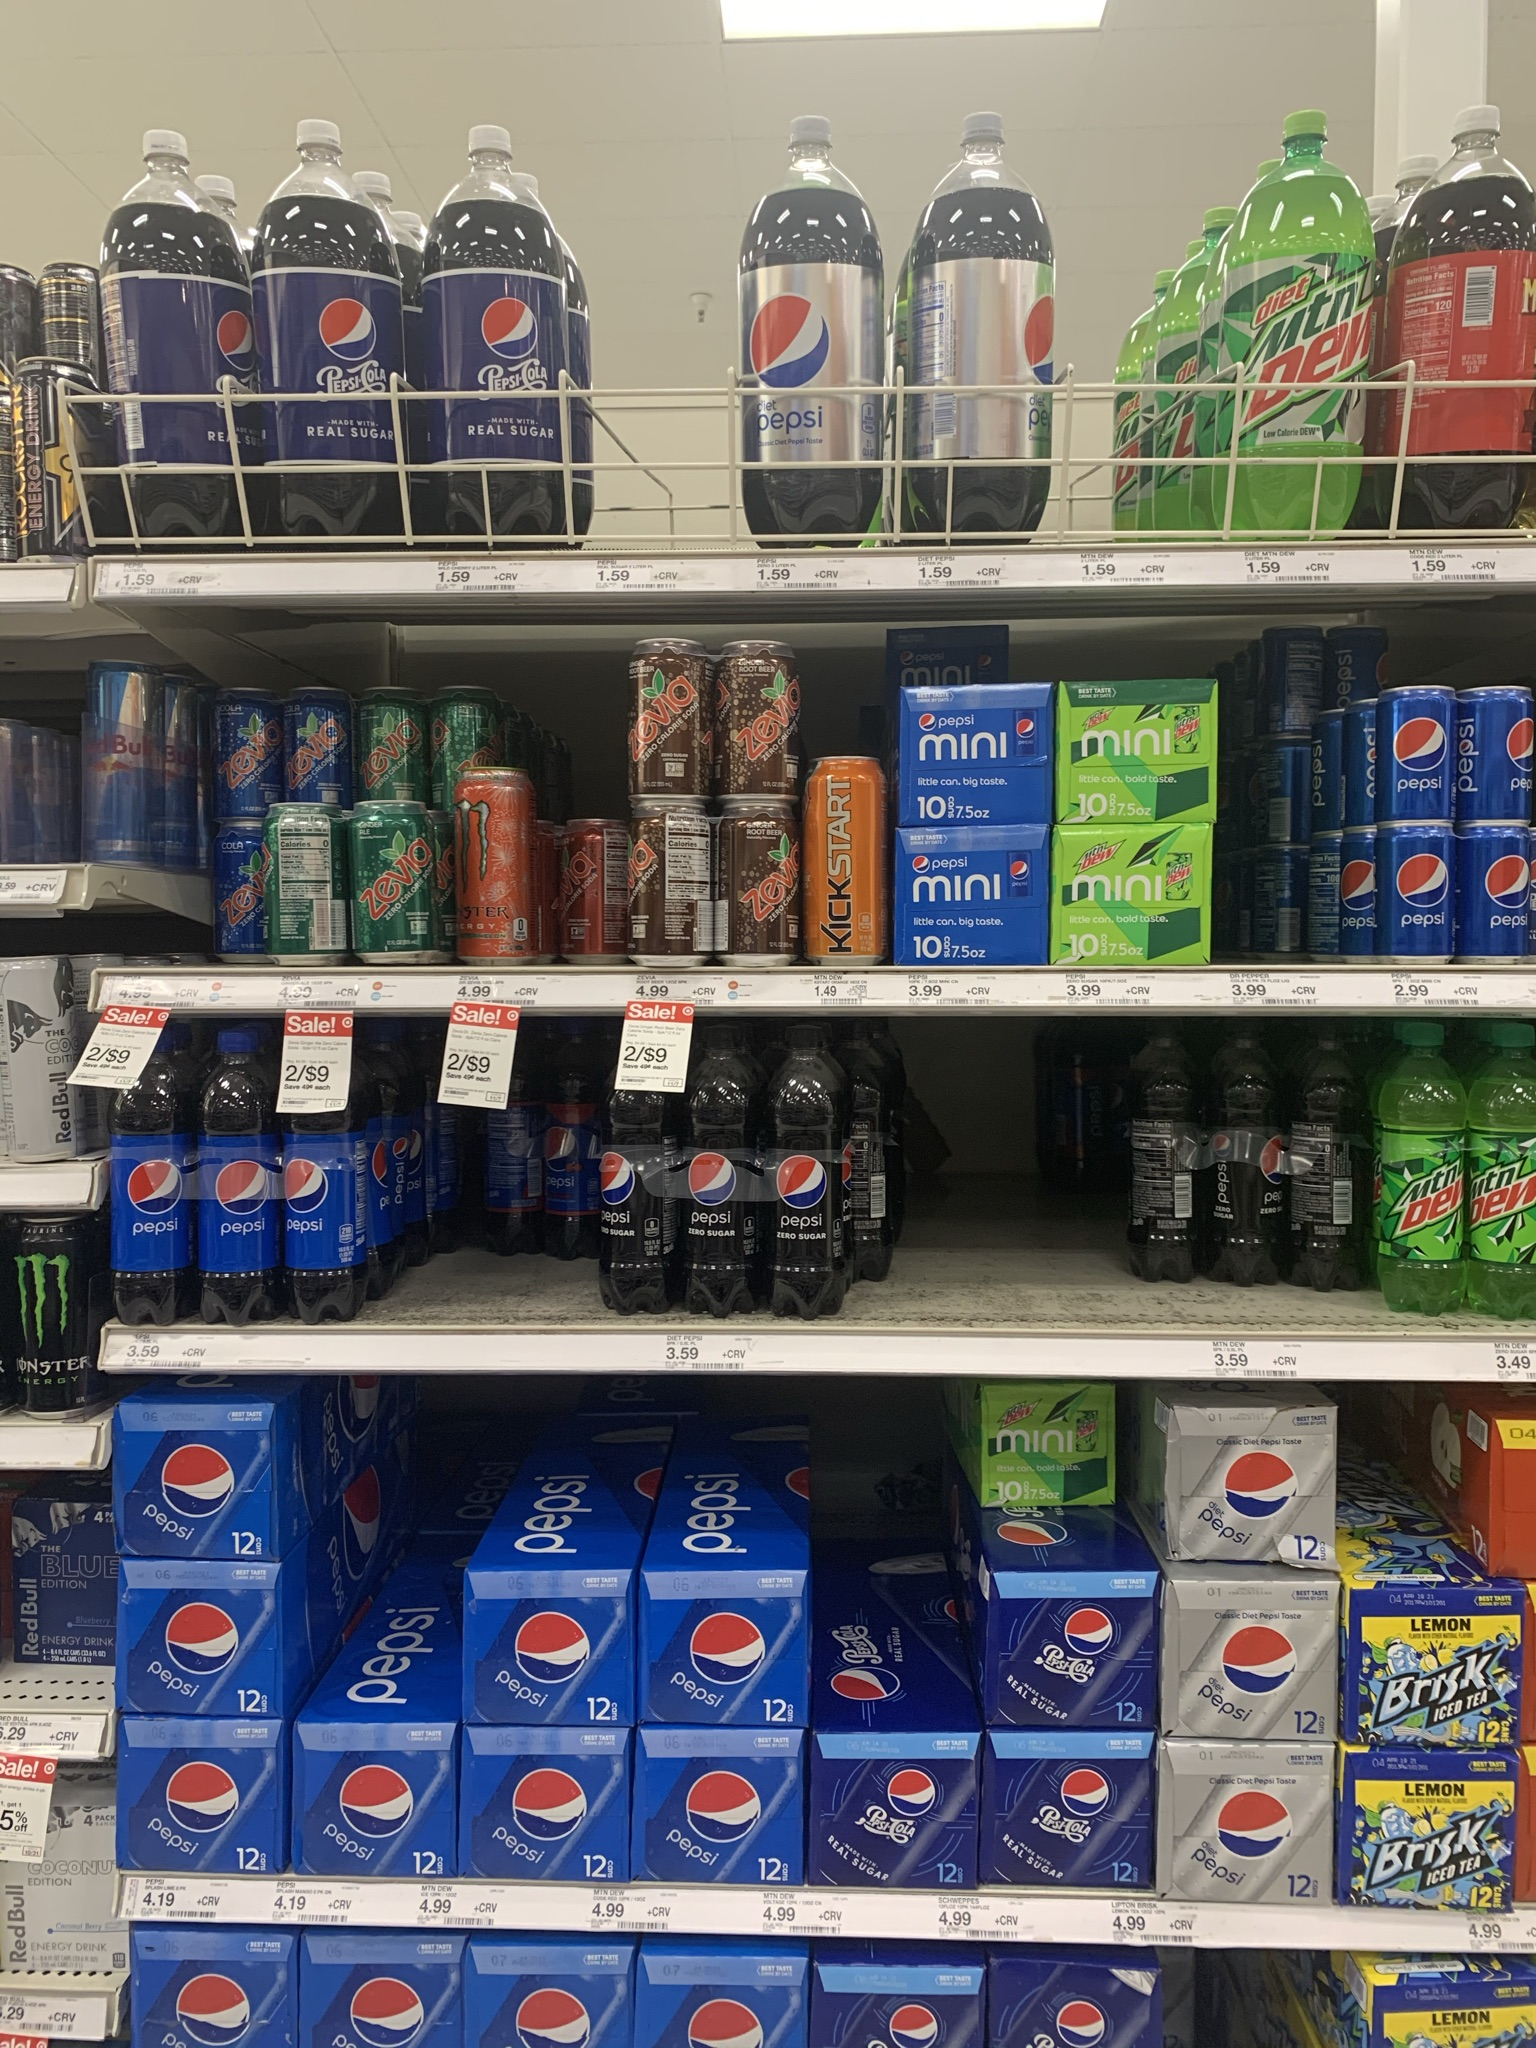Soda: (904, 106, 1070, 540), (258, 105, 415, 547), (98, 106, 250, 543), (745, 106, 886, 550), (1225, 105, 1365, 527), (1388, 97, 1528, 519), (436, 110, 565, 534), (1160, 1567, 1344, 1740), (1363, 1016, 1465, 1314), (190, 1030, 294, 1321), (287, 1717, 460, 1885), (1163, 1409, 1338, 1571), (457, 1572, 634, 1730), (98, 1024, 189, 1330), (595, 1021, 687, 1314), (274, 1042, 373, 1316), (650, 1563, 805, 1737), (752, 1034, 845, 1317), (1060, 671, 1218, 826), (1118, 1022, 1212, 1284), (899, 677, 1050, 824), (1213, 1018, 1297, 1280), (682, 1024, 753, 1322), (799, 740, 886, 972), (1471, 1014, 1536, 1322), (442, 755, 534, 969), (344, 789, 434, 979), (77, 656, 157, 871), (708, 634, 792, 822), (624, 619, 700, 805), (1379, 669, 1460, 840), (1375, 816, 1459, 956), (205, 669, 279, 827), (1455, 814, 1534, 963), (1463, 681, 1528, 824)
